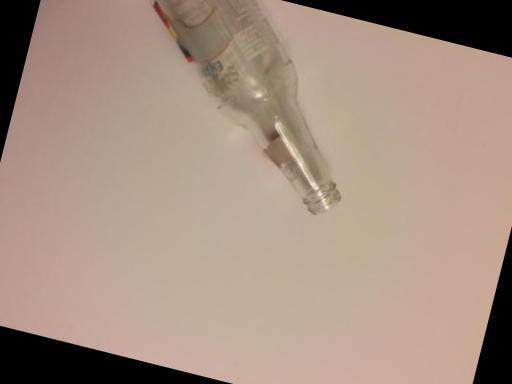glass: (58, 0, 413, 244)
